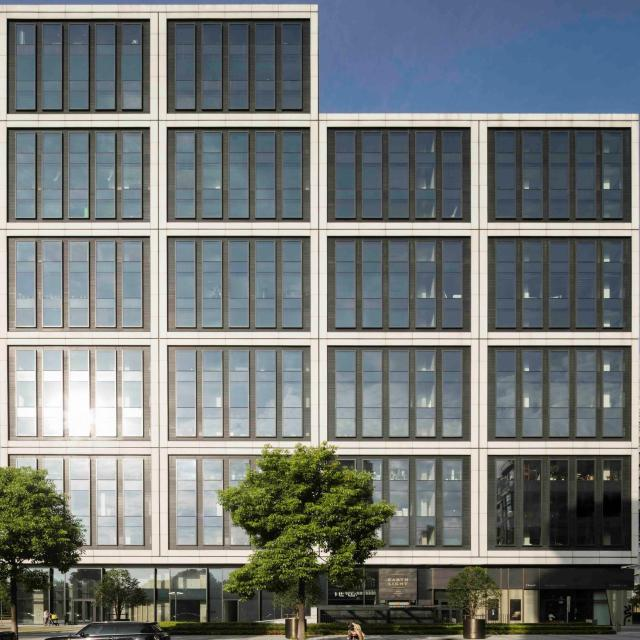door: (71, 598, 97, 626)
window: (18, 570, 208, 626), (66, 23, 91, 113), (251, 19, 276, 109), (67, 132, 92, 222), (226, 131, 251, 221), (66, 239, 91, 329), (69, 351, 94, 441), (544, 350, 569, 440), (385, 351, 410, 441), (387, 461, 412, 551), (225, 239, 249, 329), (228, 350, 252, 440), (227, 457, 251, 547), (68, 458, 92, 548), (544, 131, 568, 221), (385, 131, 409, 221), (544, 239, 568, 329), (385, 240, 409, 330), (546, 461, 570, 551), (95, 239, 117, 329), (95, 23, 117, 112), (255, 131, 277, 220), (96, 132, 118, 221), (98, 351, 120, 440), (575, 350, 597, 439), (414, 351, 436, 440), (577, 460, 599, 549), (416, 462, 438, 551), (229, 24, 251, 111), (40, 240, 62, 327), (202, 350, 224, 437), (201, 457, 223, 544), (42, 458, 64, 545), (359, 132, 381, 219), (518, 239, 540, 326), (359, 240, 381, 327), (280, 21, 302, 107), (199, 239, 221, 325), (518, 131, 540, 217), (520, 461, 542, 547), (15, 241, 37, 327), (414, 131, 435, 221), (254, 239, 275, 328), (257, 350, 278, 439), (97, 458, 118, 547), (575, 131, 596, 220), (575, 239, 596, 328), (414, 240, 435, 329), (41, 23, 62, 110), (200, 22, 221, 109), (42, 132, 63, 219), (201, 131, 222, 218), (44, 351, 65, 438), (519, 350, 540, 437), (360, 351, 381, 438), (335, 133, 356, 218), (175, 22, 195, 109), (17, 132, 37, 219), (335, 240, 355, 327), (176, 131, 196, 217), (19, 351, 39, 437), (178, 350, 198, 436), (494, 350, 514, 436), (496, 461, 516, 547), (122, 22, 141, 111), (282, 130, 301, 219), (123, 131, 142, 220), (284, 349, 303, 438), (125, 350, 144, 439), (124, 457, 143, 546), (602, 237, 621, 326), (441, 350, 460, 439), (122, 239, 141, 327), (602, 129, 621, 217), (443, 461, 462, 549), (17, 23, 36, 110), (175, 238, 194, 325), (177, 457, 196, 544), (494, 239, 513, 326), (494, 131, 513, 217), (336, 351, 355, 437), (441, 239, 459, 328), (603, 348, 621, 437), (281, 238, 299, 326), (441, 131, 459, 219), (605, 459, 623, 547), (364, 459, 383, 497), (17, 457, 37, 467)
